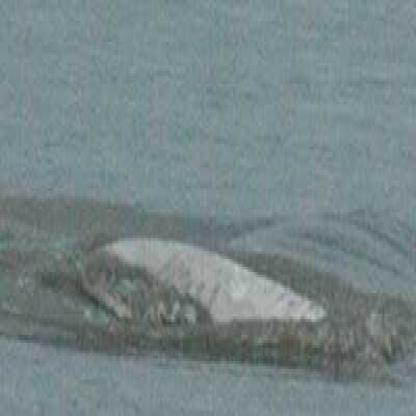dolphin-whale: (89, 216, 334, 346)
